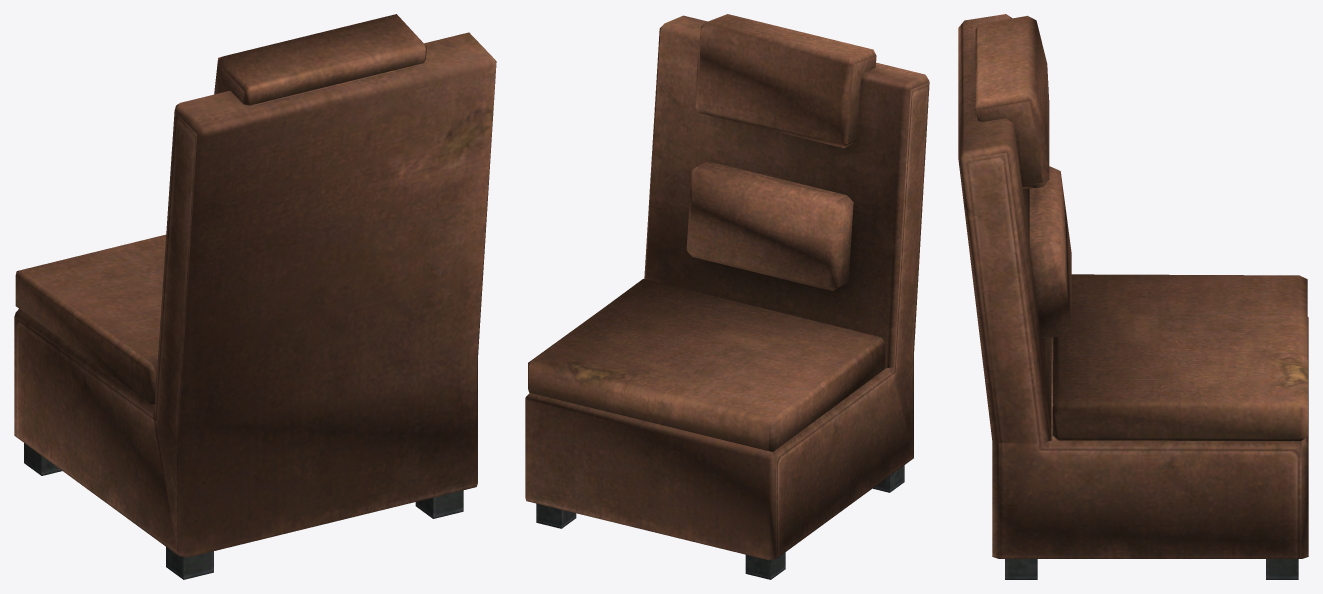
The model's file is Prop_JbSf02.glb.
3 views of the same model, side by side, from view 1: azimuth 30°, elevation 25°; view 2: azimuth 150°, elevation 25°; view 3: azimuth 270°, elevation 25° (orthographic). The views are drawn at different scales.
Visible parts, largest first — view 1: xiutz_jb_sf_02; view 2: xiutz_jb_sf_02; view 3: xiutz_jb_sf_02.
Boxes of the visible parts, x1=… form: xiutz_jb_sf_02: x1=14, y1=14, x2=496, y2=579; xiutz_jb_sf_02: x1=525, y1=14, x2=929, y2=579; xiutz_jb_sf_02: x1=958, y1=14, x2=1308, y2=579.
Bounding box in the file's own units: 1.42 × 2.27 × 1.56.
Materials: 1 (1 with a texture image).
